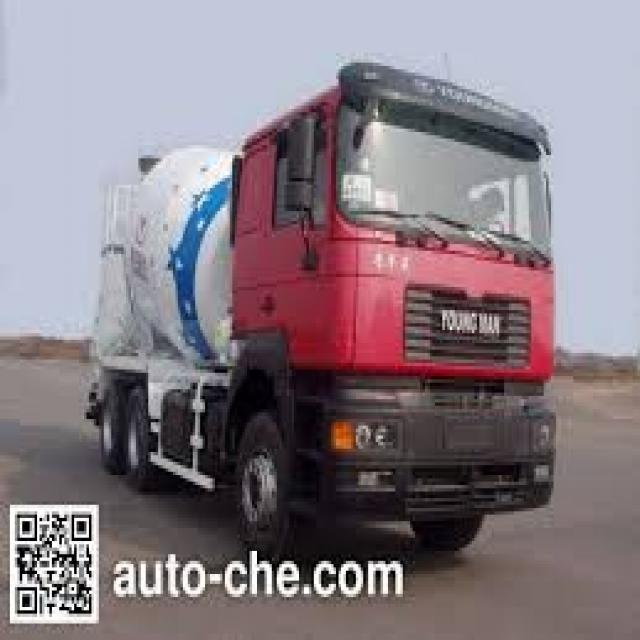Mixer Truck: (81, 58, 561, 580)
